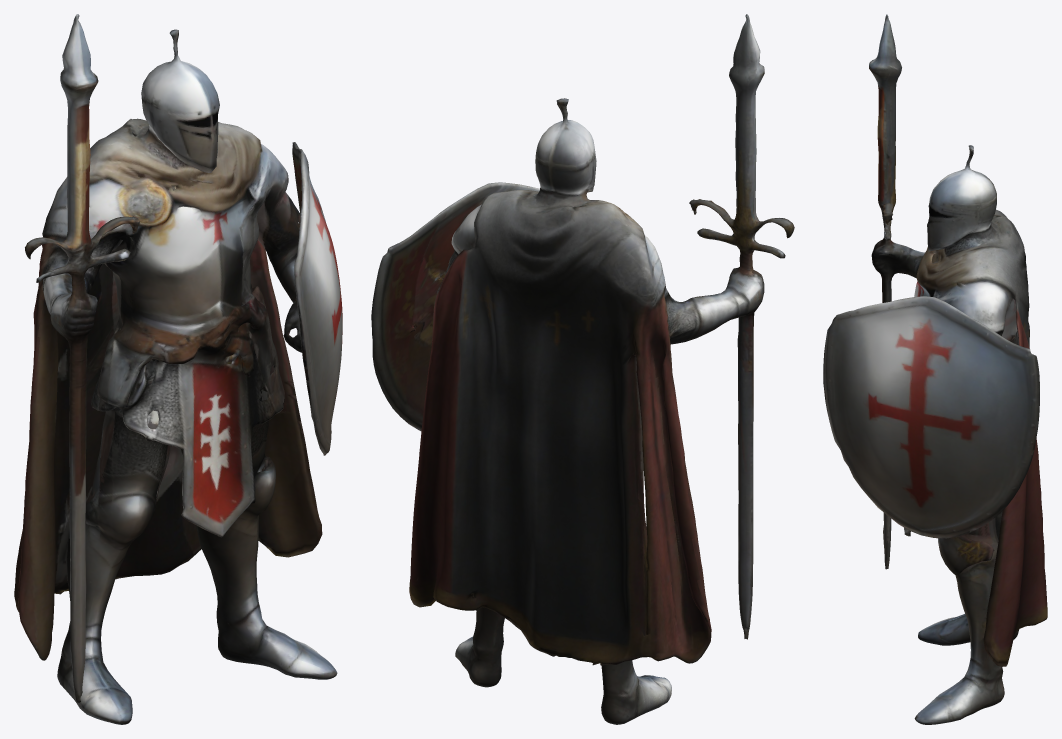
File: crusader_paladin_1226012356_refine.glb
3 views of the same model, side by side, from view 1: azimuth 30°, elevation 25°; view 2: azimuth 150°, elevation 25°; view 3: azimuth 270°, elevation 25° (orthographic). The views are drawn at different scales.
Bounding box in the file's own units: 1.05 × 2 × 0.6766.
Materials: 1 (1 with a texture image).
